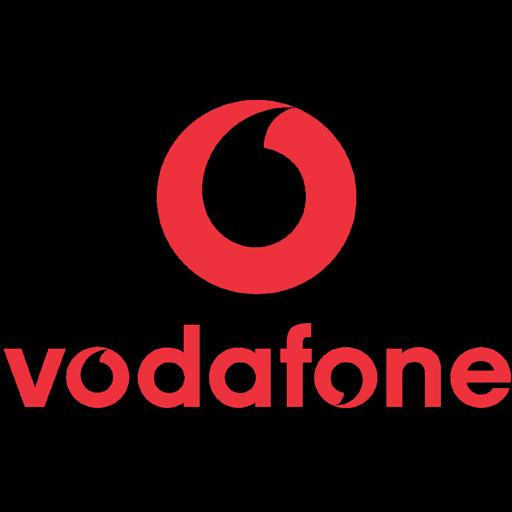Vodafone: (0, 97, 512, 415)
